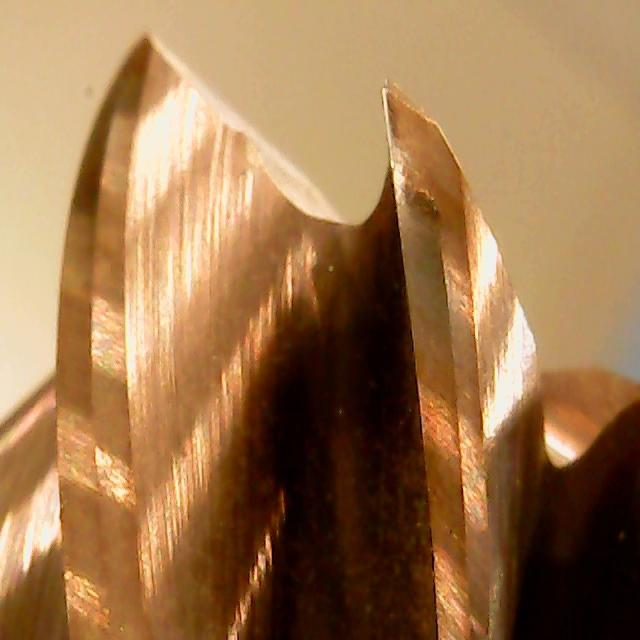Tool-wear-class-0: (362, 81, 494, 388)
